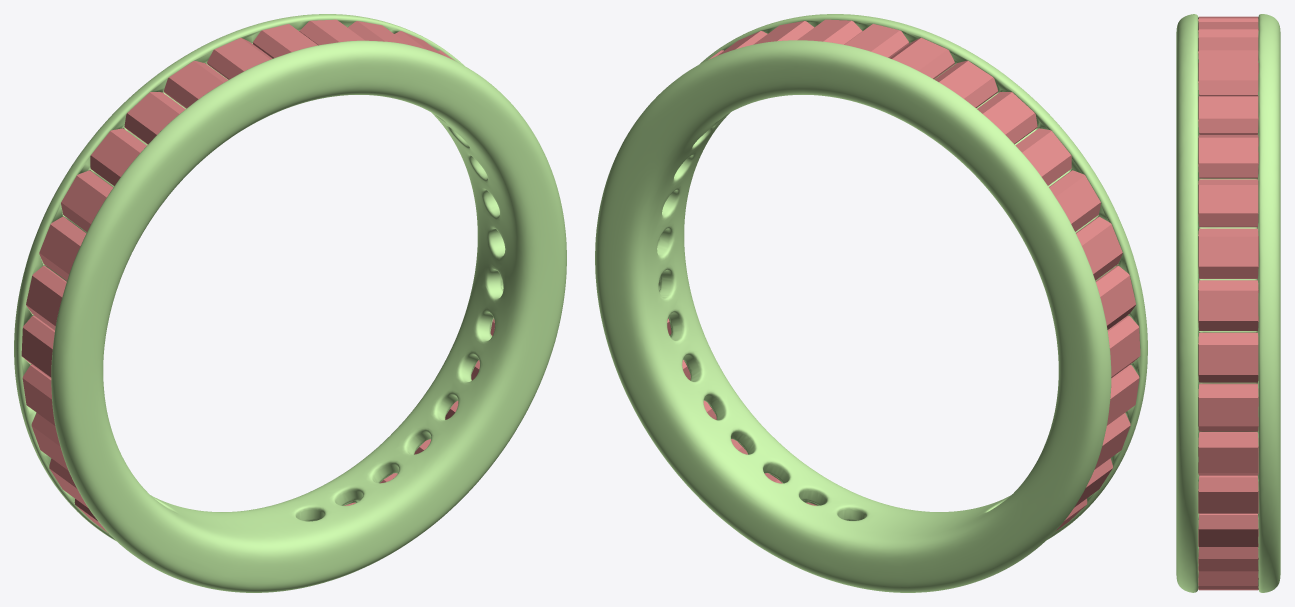
Rendered from BE2D289LC_RENDER.glb.
3 views of the same model, side by side, from view 1: azimuth 30°, elevation 25°; view 2: azimuth 150°, elevation 25°; view 3: azimuth 270°, elevation 25° (orthographic). The views are drawn at different scales.
Parts seen in each view (by area): view 1: Metal03, Diamond_Baguette_Gem_BD.004, Diamond_Baguette_Gem_BD.005, Diamond_Baguette_Gem_BD.003, Diamond_Baguette_Gem_BD.006, Diamond_Baguette_Gem_BD.002, Diamond_Baguette_Gem_BD.007, Diamond_Baguette_Gem_BD.001, Diamond_Baguette_Gem_BD.008, Diamond_Baguette_Gem_BD, Diamond_Baguette_Gem_BD.009, Diamond_Baguette_Gem_BD.032 (+2 smaller); view 2: Metal03, Diamond_Baguette_Gem_BD.004, Diamond_Baguette_Gem_BD.005, Diamond_Baguette_Gem_BD.003, Diamond_Baguette_Gem_BD.006, Diamond_Baguette_Gem_BD.002, Diamond_Baguette_Gem_BD.007, Diamond_Baguette_Gem_BD.001, Diamond_Baguette_Gem_BD.008, Diamond_Baguette_Gem_BD, Diamond_Baguette_Gem_BD.009, Diamond_Baguette_Gem_BD.032 (+2 smaller); view 3: Metal03, Diamond_Baguette_Gem_BD.027, Diamond_Baguette_Gem_BD.026, Diamond_Baguette_Gem_BD.028, Diamond_Baguette_Gem_BD.029, Diamond_Baguette_Gem_BD.025, Diamond_Baguette_Gem_BD.030, Diamond_Baguette_Gem_BD.024, Diamond_Baguette_Gem_BD.023, Diamond_Baguette_Gem_BD.031, Diamond_Baguette_Gem_BD.032, Diamond_Baguette_Gem_BD.022 (+6 smaller).
Part boxes in pixels (left/top/right/bottom): Metal03: left=14, top=14, right=566, bottom=592; Diamond_Baguette_Gem_BD.004: left=90, top=128, right=146, bottom=186; Diamond_Baguette_Gem_BD.005: left=61, top=170, right=113, bottom=231; Diamond_Baguette_Gem_BD.003: left=124, top=92, right=185, bottom=144; Diamond_Baguette_Gem_BD.006: left=39, top=216, right=86, bottom=280; Diamond_Baguette_Gem_BD.002: left=163, top=61, right=227, bottom=108; Diamond_Baguette_Gem_BD.007: left=26, top=265, right=66, bottom=330; Diamond_Baguette_Gem_BD.001: left=207, top=38, right=272, bottom=79; Diamond_Baguette_Gem_BD.008: left=21, top=315, right=54, bottom=378; Diamond_Baguette_Gem_BD: left=252, top=24, right=317, bottom=58; Diamond_Baguette_Gem_BD.009: left=22, top=365, right=55, bottom=425; Diamond_Baguette_Gem_BD.032: left=299, top=19, right=364, bottom=45; Metal03: left=595, top=14, right=1147, bottom=592; Diamond_Baguette_Gem_BD.004: left=1015, top=128, right=1071, bottom=185; Diamond_Baguette_Gem_BD.005: left=1049, top=170, right=1100, bottom=231; Diamond_Baguette_Gem_BD.003: left=977, top=92, right=1037, bottom=144; Diamond_Baguette_Gem_BD.006: left=1076, top=216, right=1122, bottom=280; Diamond_Baguette_Gem_BD.002: left=934, top=60, right=998, bottom=107; Diamond_Baguette_Gem_BD.007: left=1095, top=265, right=1135, bottom=329; Diamond_Baguette_Gem_BD.001: left=890, top=37, right=954, bottom=79; Diamond_Baguette_Gem_BD.008: left=1107, top=315, right=1140, bottom=377; Diamond_Baguette_Gem_BD: left=844, top=24, right=909, bottom=58; Diamond_Baguette_Gem_BD.009: left=1107, top=365, right=1139, bottom=425; Diamond_Baguette_Gem_BD.032: left=797, top=19, right=862, bottom=44; Metal03: left=1176, top=14, right=1280, bottom=592; Diamond_Baguette_Gem_BD.027: left=1198, top=280, right=1258, bottom=330; Diamond_Baguette_Gem_BD.026: left=1198, top=332, right=1258, bottom=382; Diamond_Baguette_Gem_BD.028: left=1198, top=228, right=1258, bottom=278; Diamond_Baguette_Gem_BD.029: left=1198, top=179, right=1258, bottom=227; Diamond_Baguette_Gem_BD.025: left=1198, top=383, right=1258, bottom=431; Diamond_Baguette_Gem_BD.030: left=1198, top=134, right=1258, bottom=178; Diamond_Baguette_Gem_BD.024: left=1198, top=432, right=1258, bottom=475; Diamond_Baguette_Gem_BD.023: left=1198, top=475, right=1258, bottom=513; Diamond_Baguette_Gem_BD.031: left=1198, top=96, right=1258, bottom=134; Diamond_Baguette_Gem_BD.032: left=1198, top=62, right=1258, bottom=96; Diamond_Baguette_Gem_BD.022: left=1198, top=513, right=1258, bottom=546.
Bounding box in the file's own units: 20.52 × 20.53 × 3.7.
